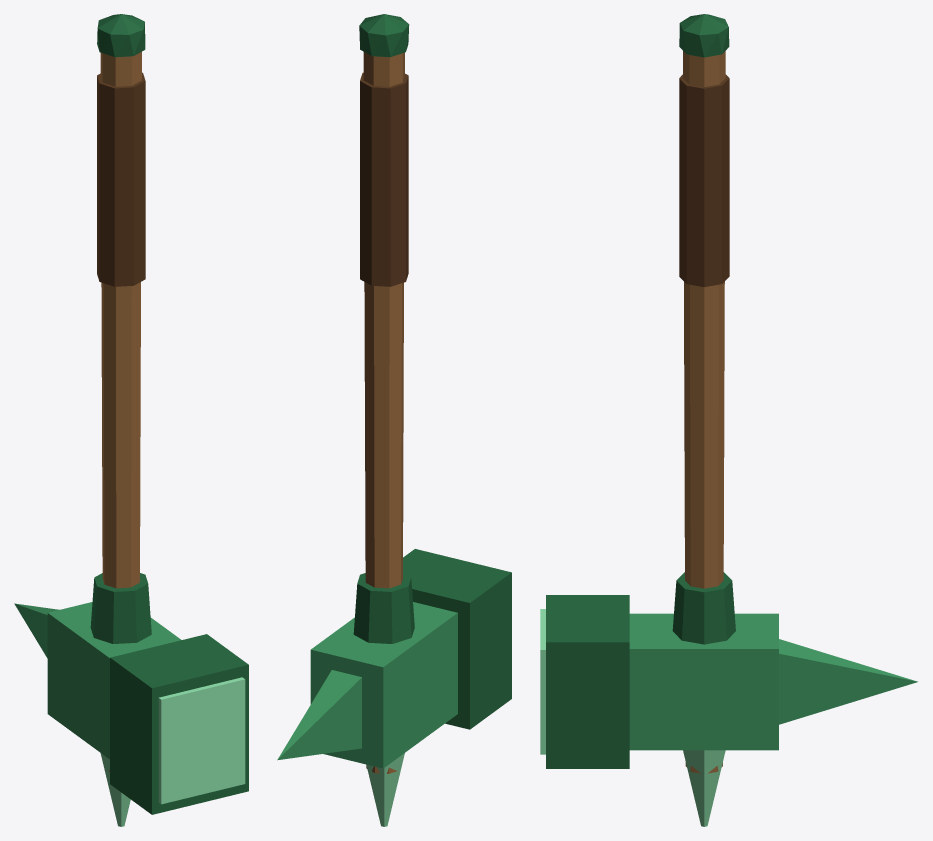
Rendered from held_adamant_warhammer.glb.
3 renders of one model, left to right at view 1: azimuth 30°, elevation 25°; view 2: azimuth 150°, elevation 25°; view 3: azimuth 270°, elevation 25°, orthographic.
Parts seen in each view (by area): view 1: held_adamant_warhammer; view 2: held_adamant_warhammer; view 3: held_adamant_warhammer.
Part boxes in pixels (<box>): held_adamant_warhammer: <box>14,14,248,826</box>; held_adamant_warhammer: <box>277,14,511,826</box>; held_adamant_warhammer: <box>540,14,917,826</box>.
Size of the model in its own units: 0.12 by 0.961 by 0.406.
